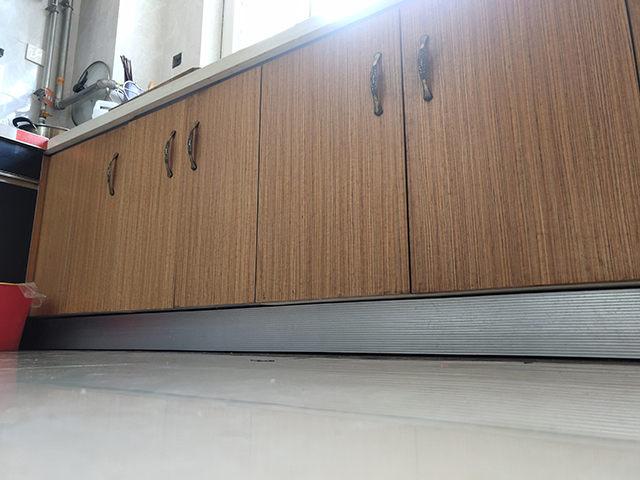cabinet: (36, 1, 640, 363)
trashcan: (1, 281, 39, 353)
